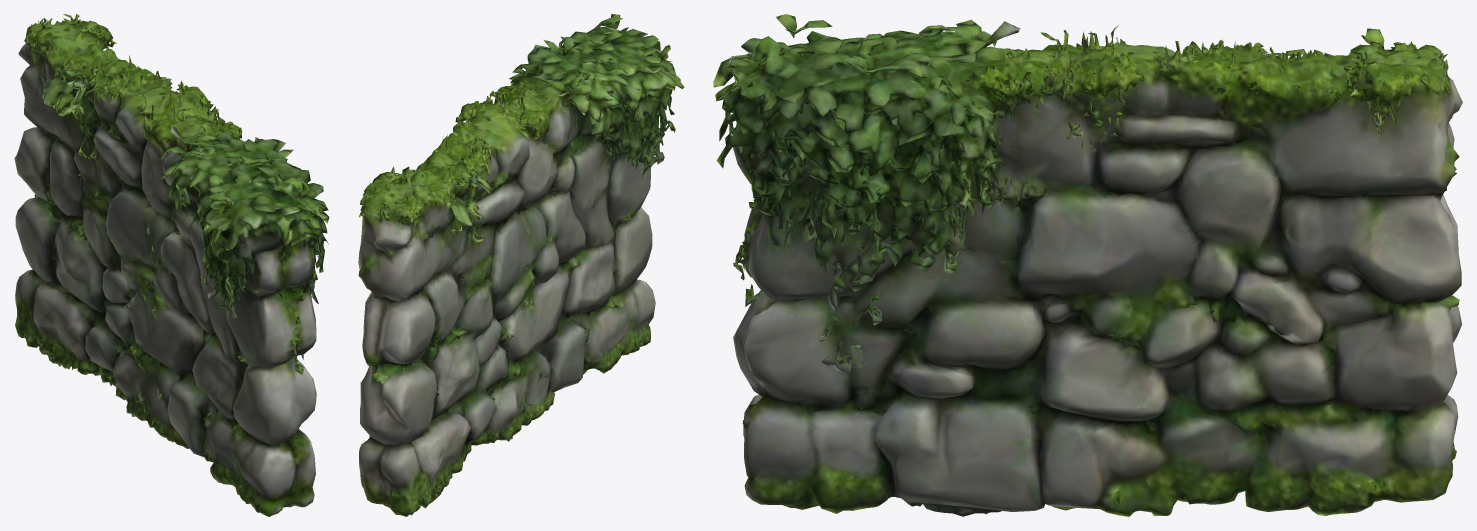
The picture shows the model from 3 angles, left to right: view 1: azimuth 30°, elevation 25°; view 2: azimuth 150°, elevation 25°; view 3: azimuth 270°, elevation 25°; orthographic projection. The views are drawn at different scales.
Bounding box in the file's own units: 0.5458 × 1.36 × 1.95.
Materials: 1 (1 with a texture image).
